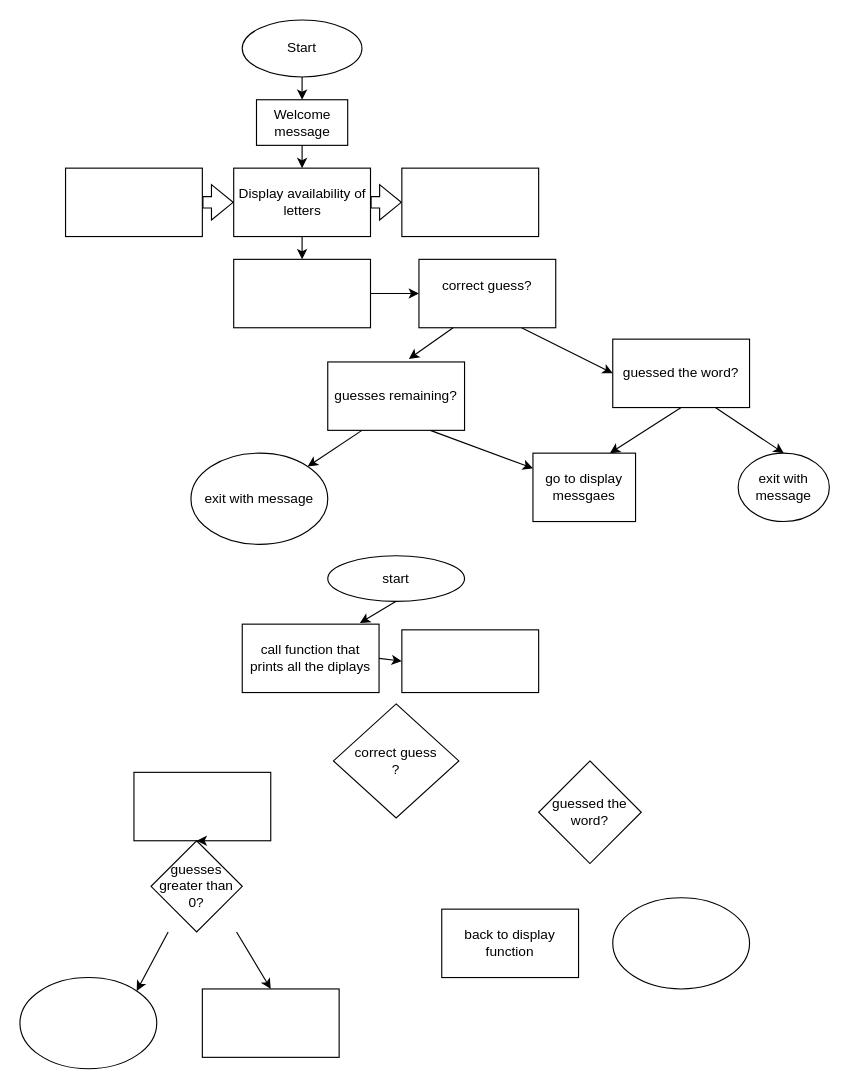
Some shapes in this 849 by 1089 pixel diagram are drawn without their labels. The centre of each missing label's shape, as x and y in pixels:
"back to display fundtion" goes at [270,1022].
"call valid input function to receive input" goes at [470,661].
"decrement guesses" goes at [202,806].
"display hidden word" goes at [133,202].
"Display remaining guesses" goes at [470,202].
"exit with message about exhausting guesses" goes at [88,1022].
"print success message end program" goes at [681,943].
"user input" goes at [301,293].
